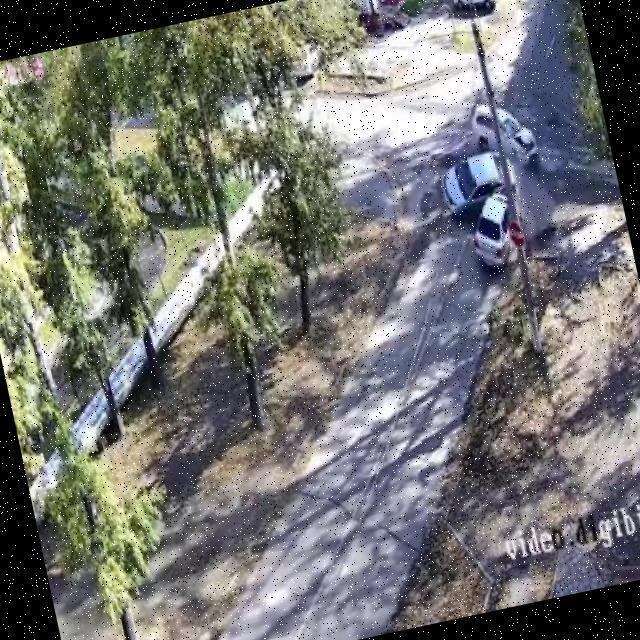accident: (460, 152, 528, 240)
